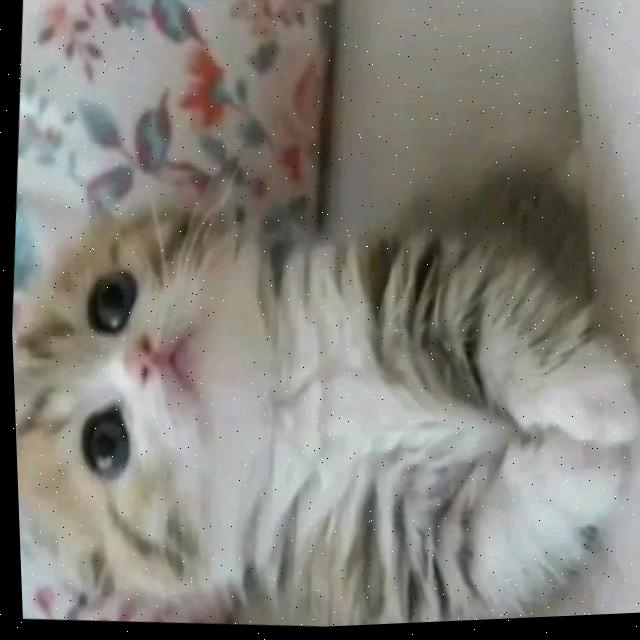Cats: (4, 111, 640, 640)
